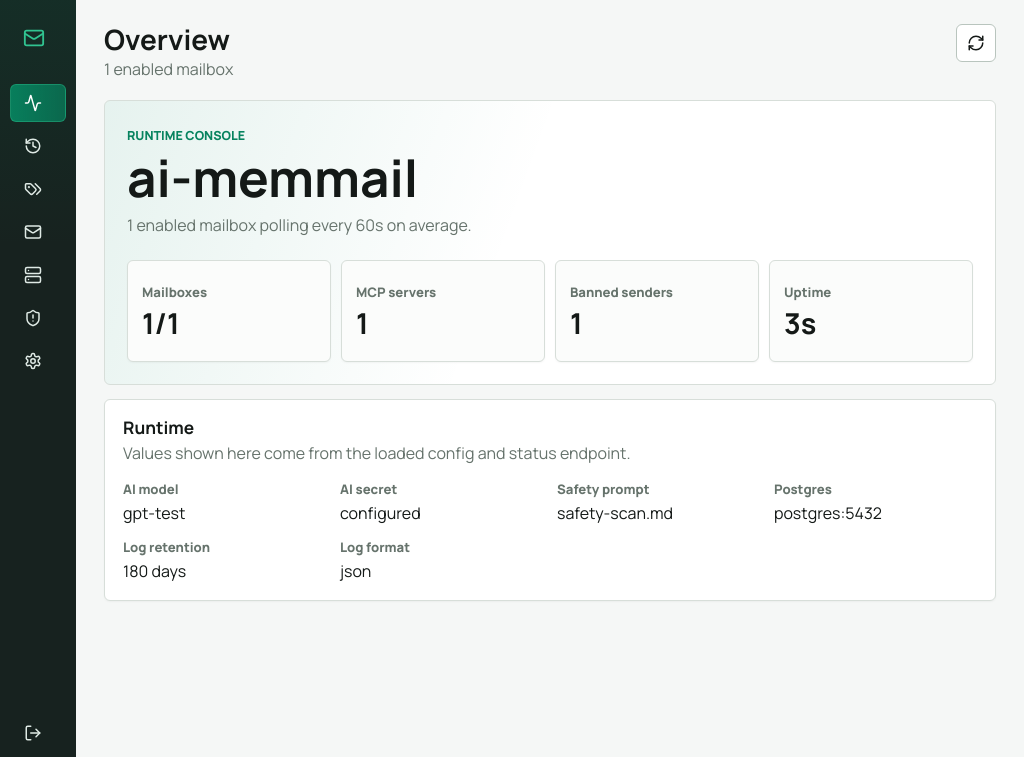
Test: App interaction guards › does not refresh after a guarded save request is canceled while saving
Click the button "Mailboxes" at (38, 232), box left=10, top=213, right=66, bottom=251
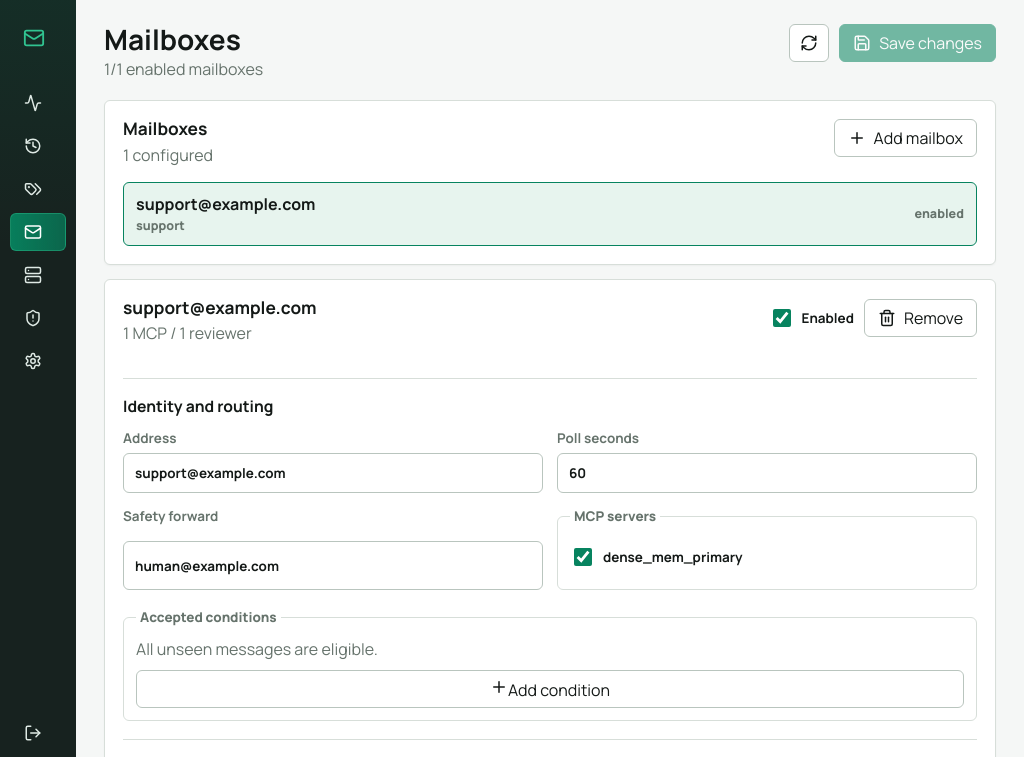
Replace the text in the number field labelled "Poll seconds" with "88" at (767, 474), box left=557, top=454, right=977, bottom=494
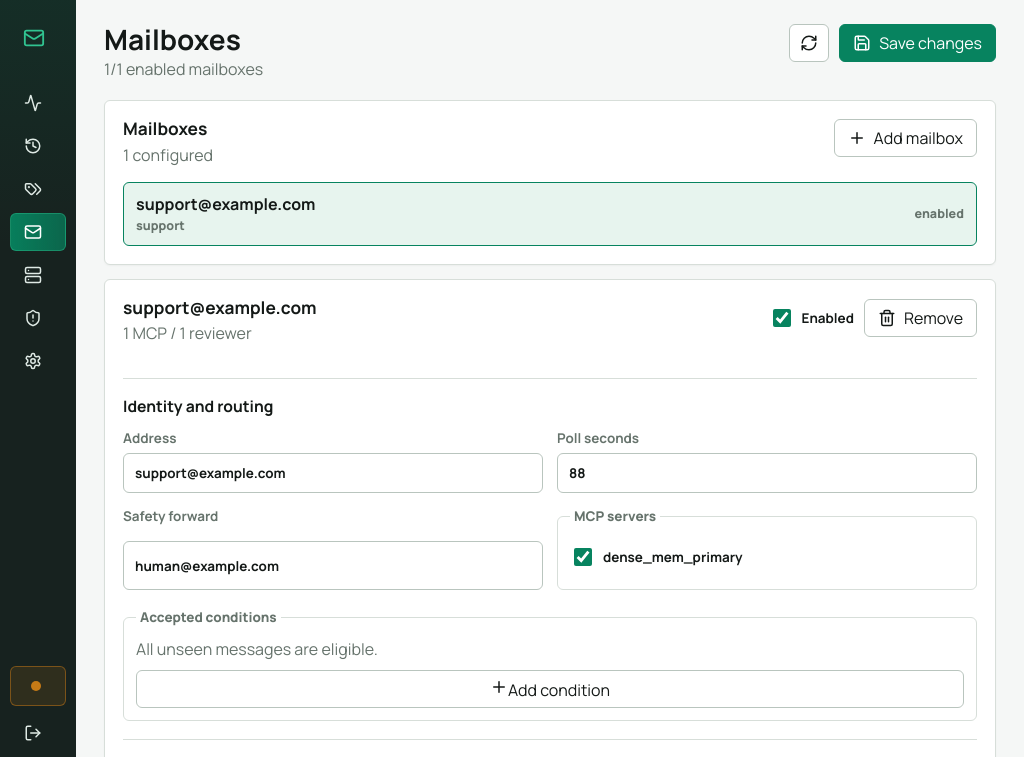
Click the button named "refresh data" at (809, 43), box left=789, top=24, right=829, bottom=62
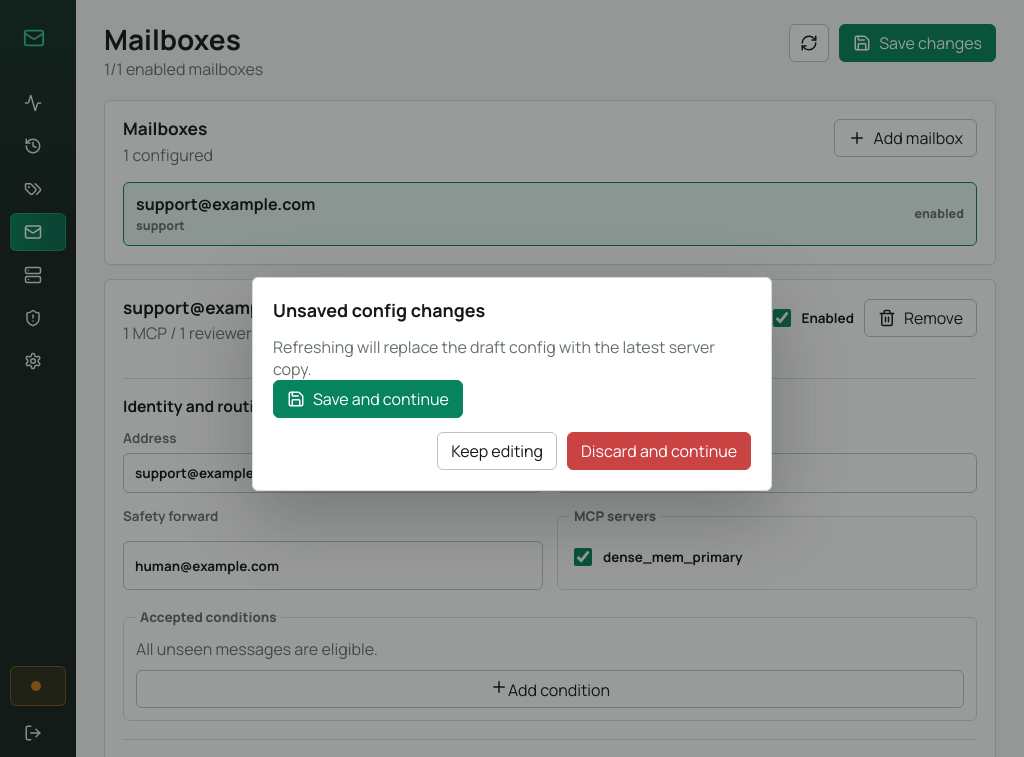
Click the button "Save and continue" at (368, 399), box left=273, top=380, right=463, bottom=418
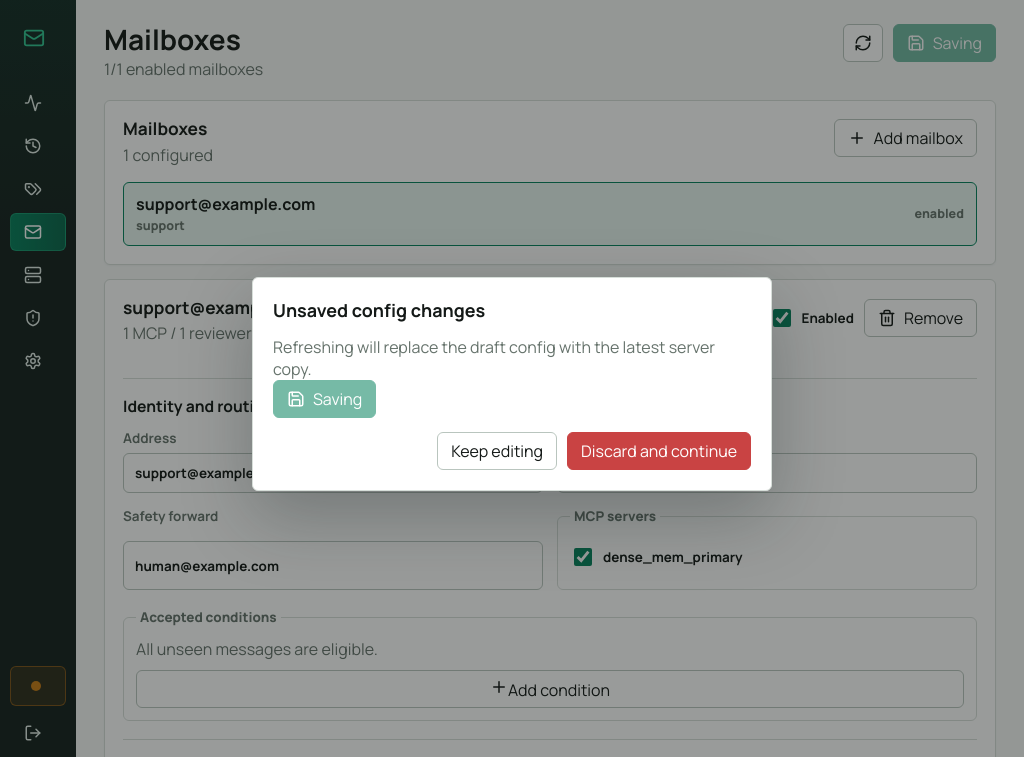
Click the button "Keep editing" at (497, 451), box left=437, top=432, right=557, bottom=470
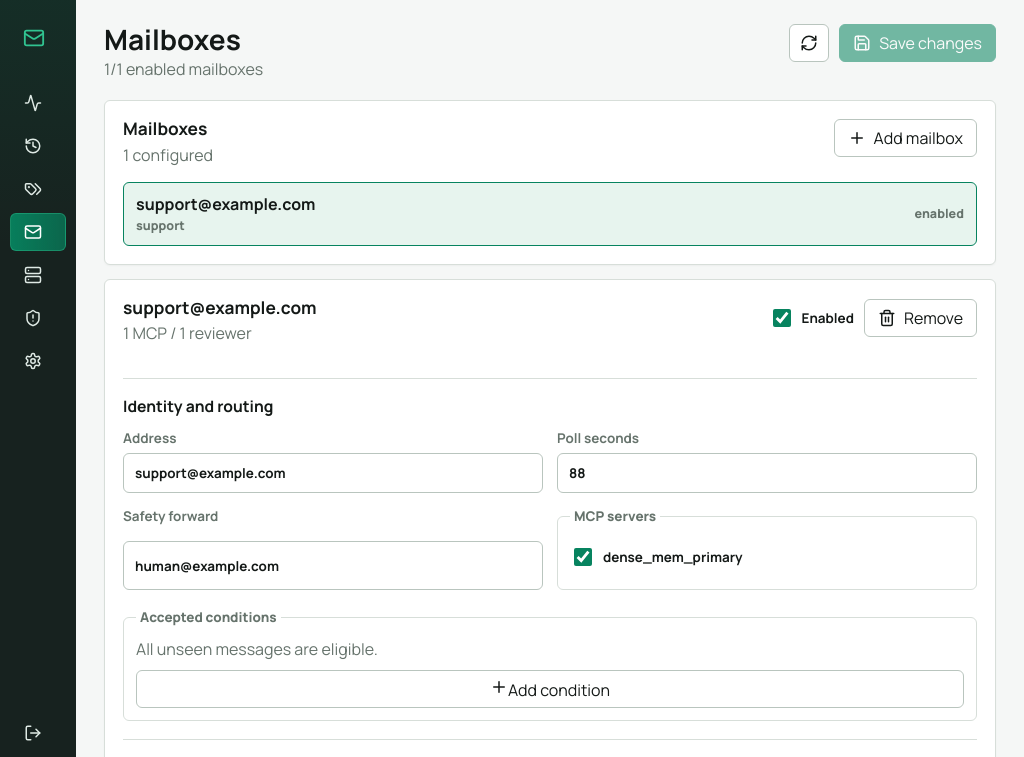
Result: the button "Save changes" is disabled at left=839, top=24, right=996, bottom=62
Result: the heading "Unsaved config changes" is gone
